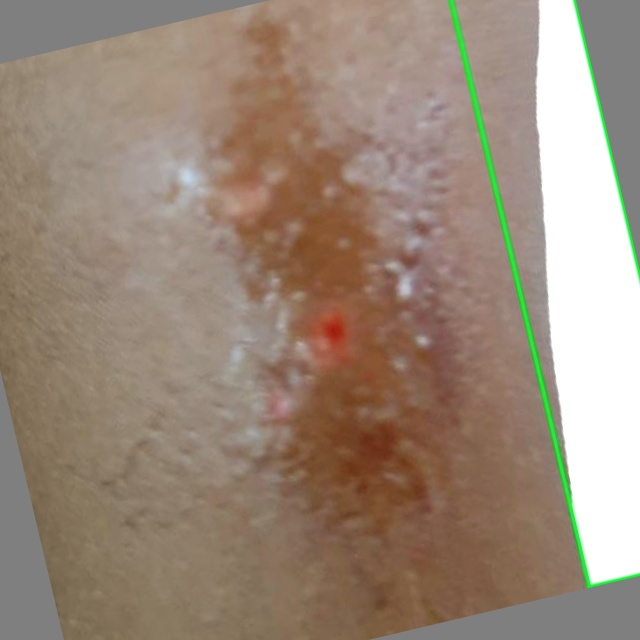Tinea Corporis: (451, 0, 639, 586)
